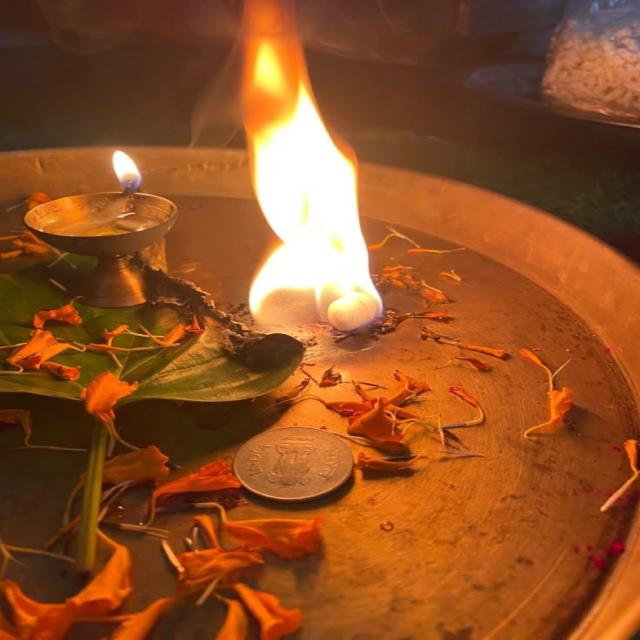fire: (241, 41, 382, 326), (111, 150, 142, 192)
